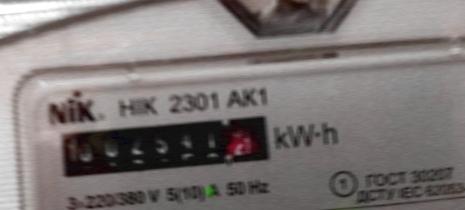0: (74, 135, 93, 162), (101, 130, 117, 158)
1: (201, 121, 216, 149)
2: (125, 128, 143, 155)
4: (177, 124, 192, 148)
5: (150, 125, 170, 155)
6: (229, 136, 245, 155)
screen: (46, 99, 284, 187)
